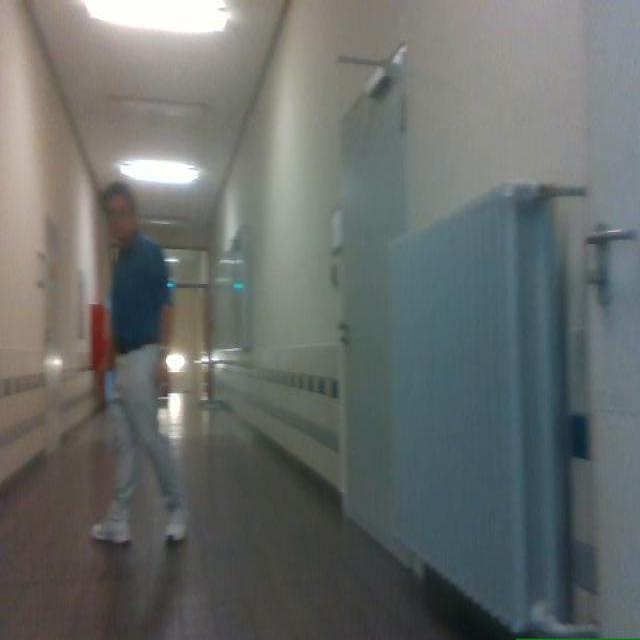humans: (91, 183, 186, 543)
